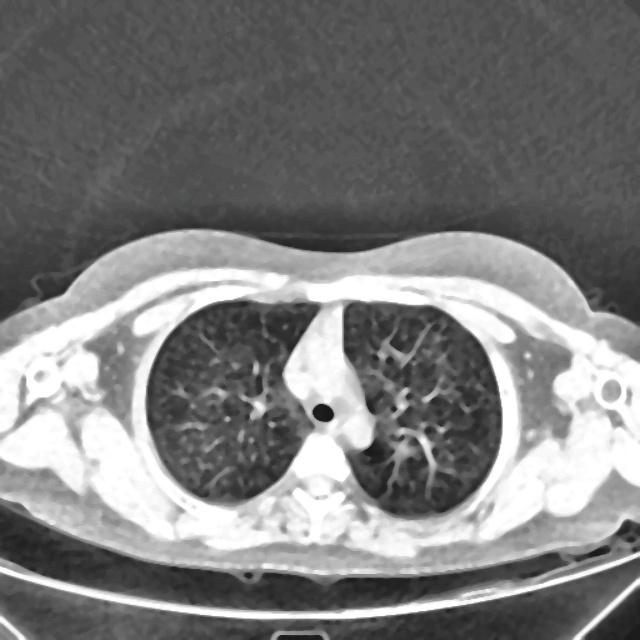covid: (0, 226, 639, 584)
